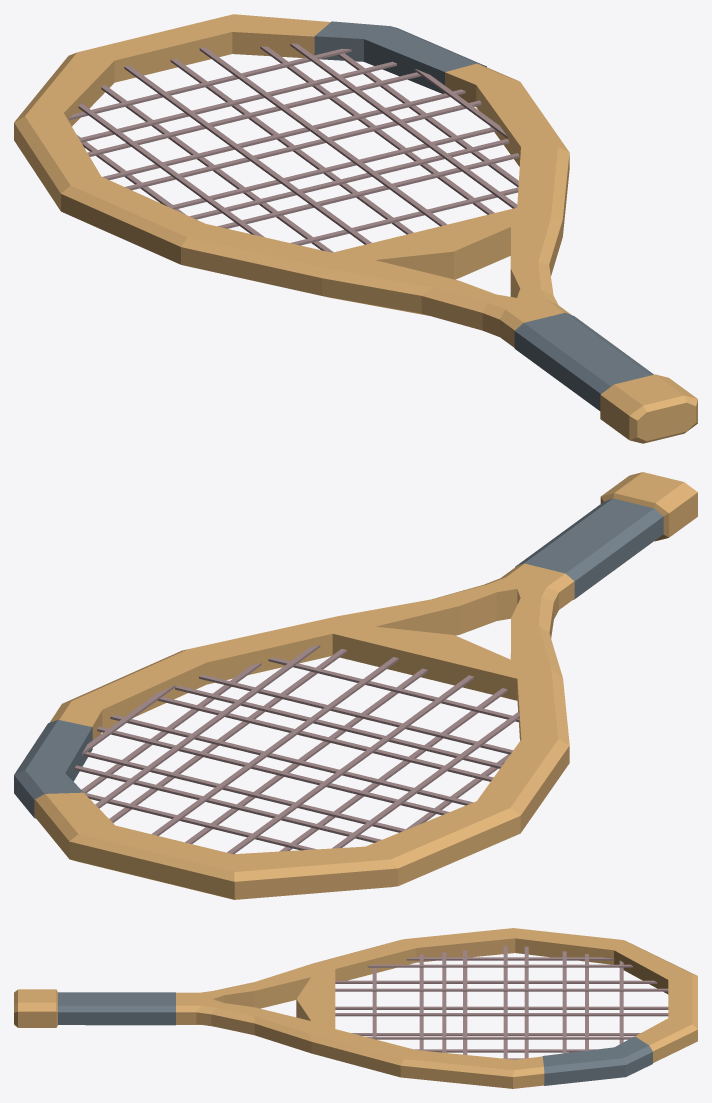
Rendered from physEdRacket.fbx.
3 renders of one model, top to bottom at view 1: azimuth 30°, elevation 25°; view 2: azimuth 150°, elevation 25°; view 3: azimuth 270°, elevation 25°, orthographic. The views are drawn at different scales.
Visible parts, largest first — view 1: physEd_racket; view 2: physEd_racket; view 3: physEd_racket.
Boxes of the visible parts, x1,y1,x2,y2 form: physEd_racket: (14, 14, 697, 443); physEd_racket: (14, 472, 697, 899); physEd_racket: (14, 928, 697, 1088).
Bounding box in the file's own units: 41.15 × 3.27 × 80.
